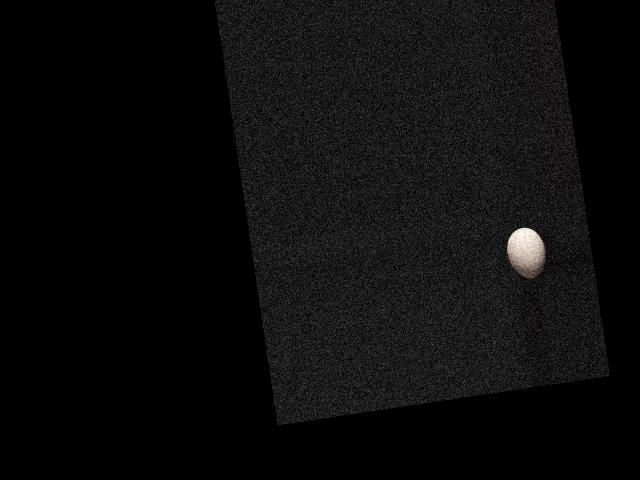egg: (504, 224, 548, 280)
